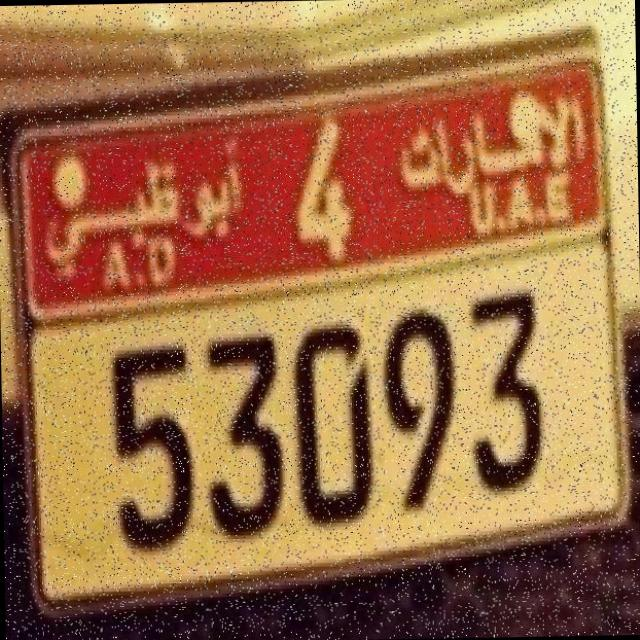LicensePlate: (0, 20, 640, 634)
